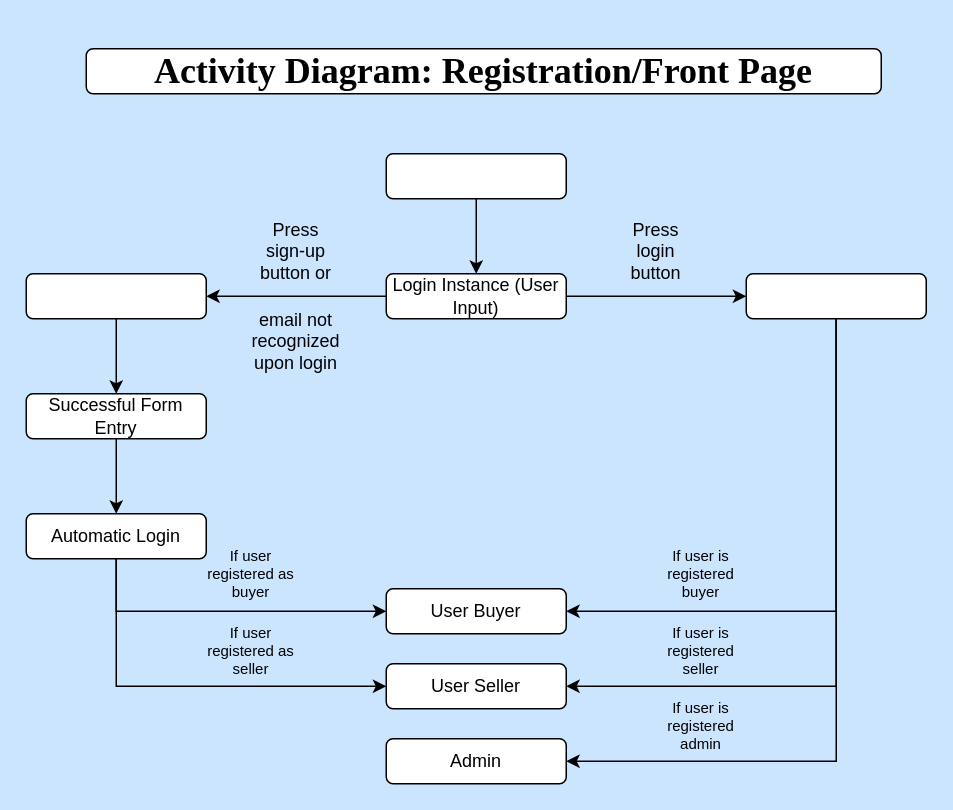
This 953x810 diagram has some shape labels left out. Each missing label, with the box of its shape:
Execute Login Credentials: (745, 272, 926, 319)
Execute Registration Form: (25, 272, 206, 319)
Website Launch: (385, 152, 566, 199)
